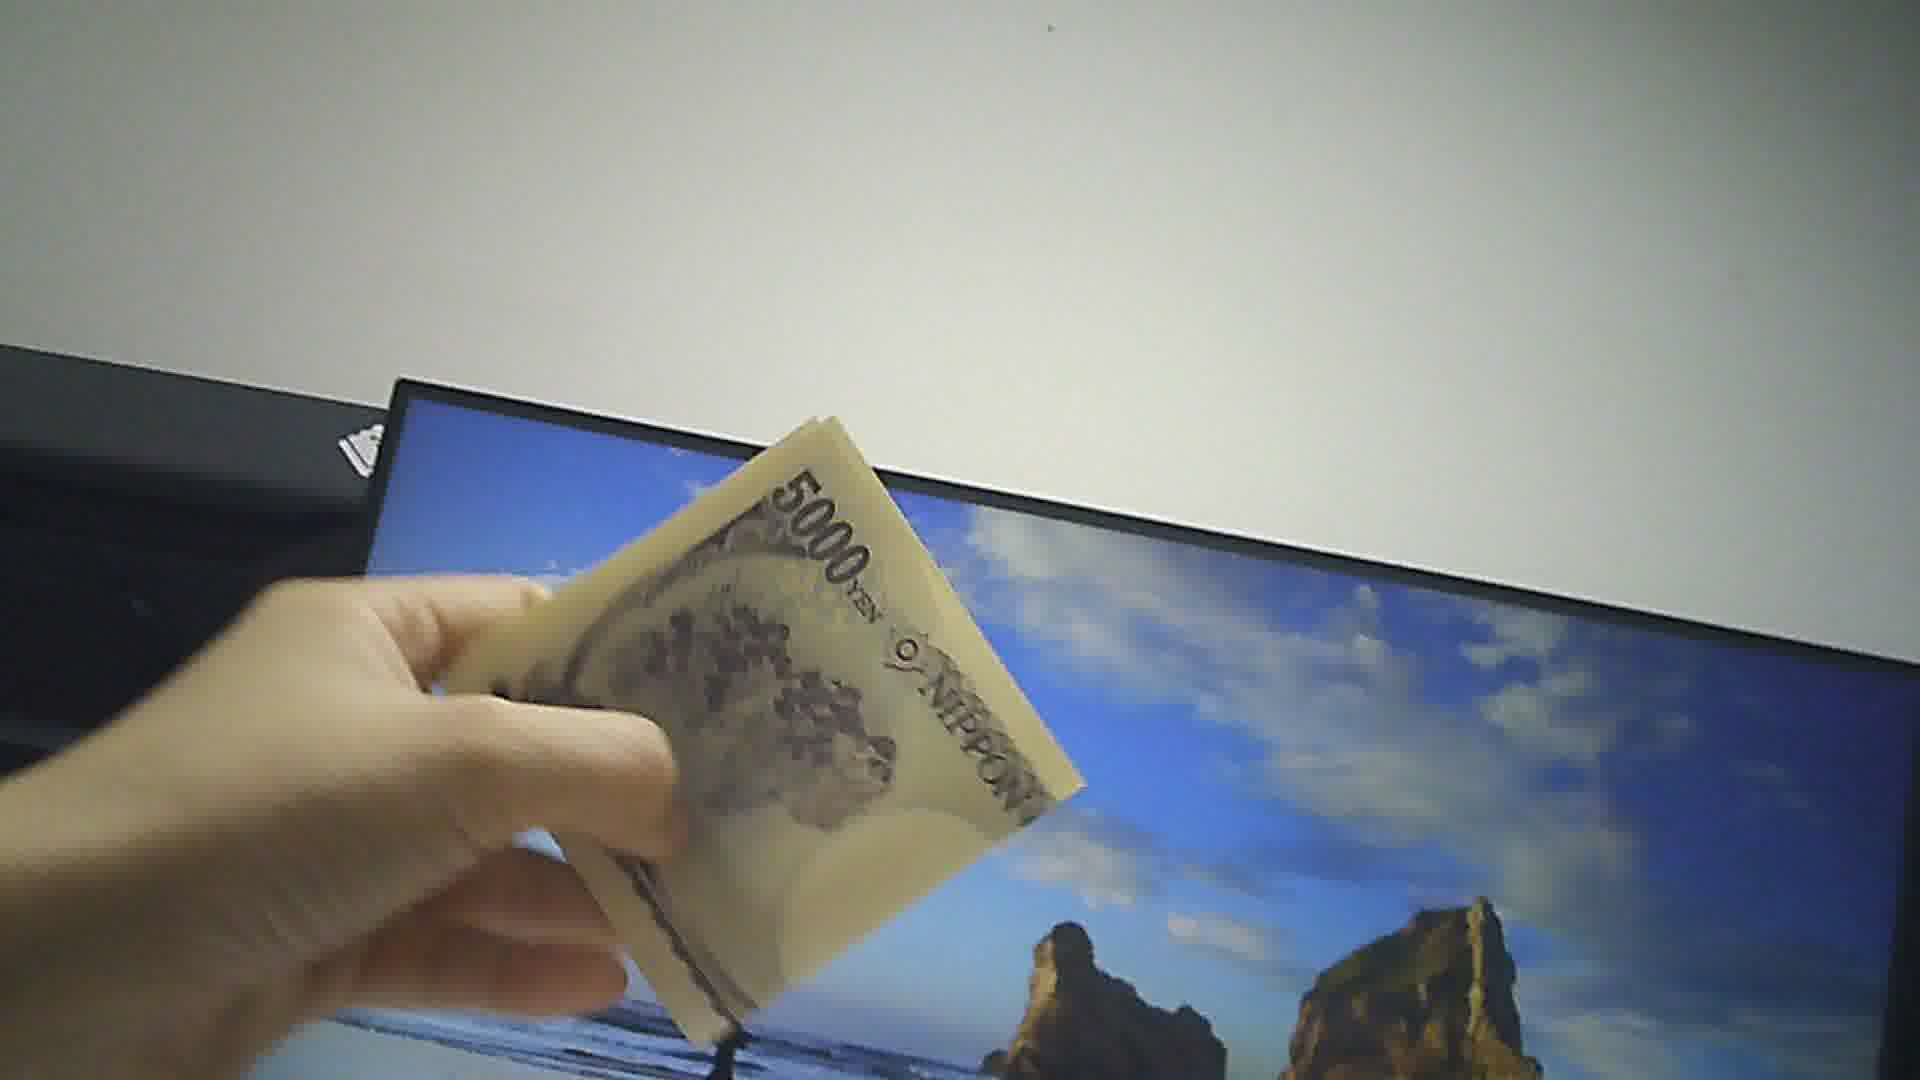5,000 Yen: (456, 406, 1091, 1064)
